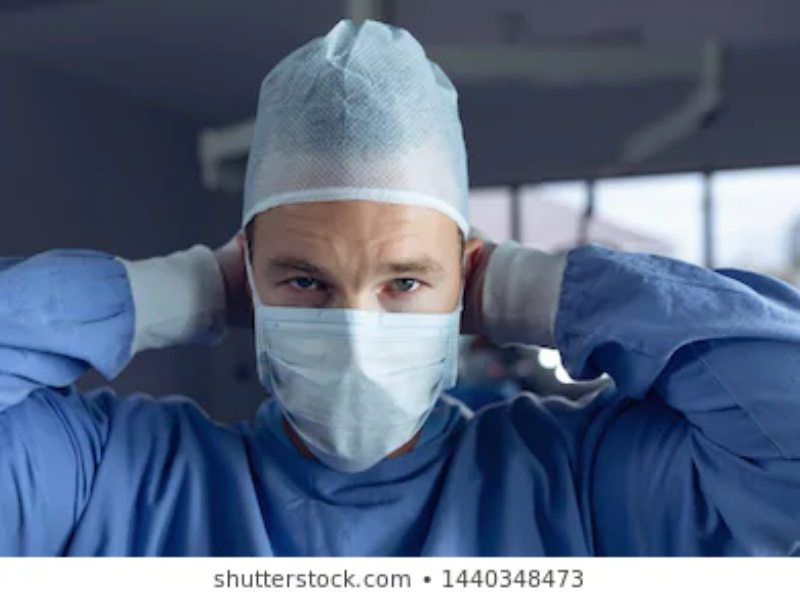ManaoArotava: (229, 88, 499, 493)
